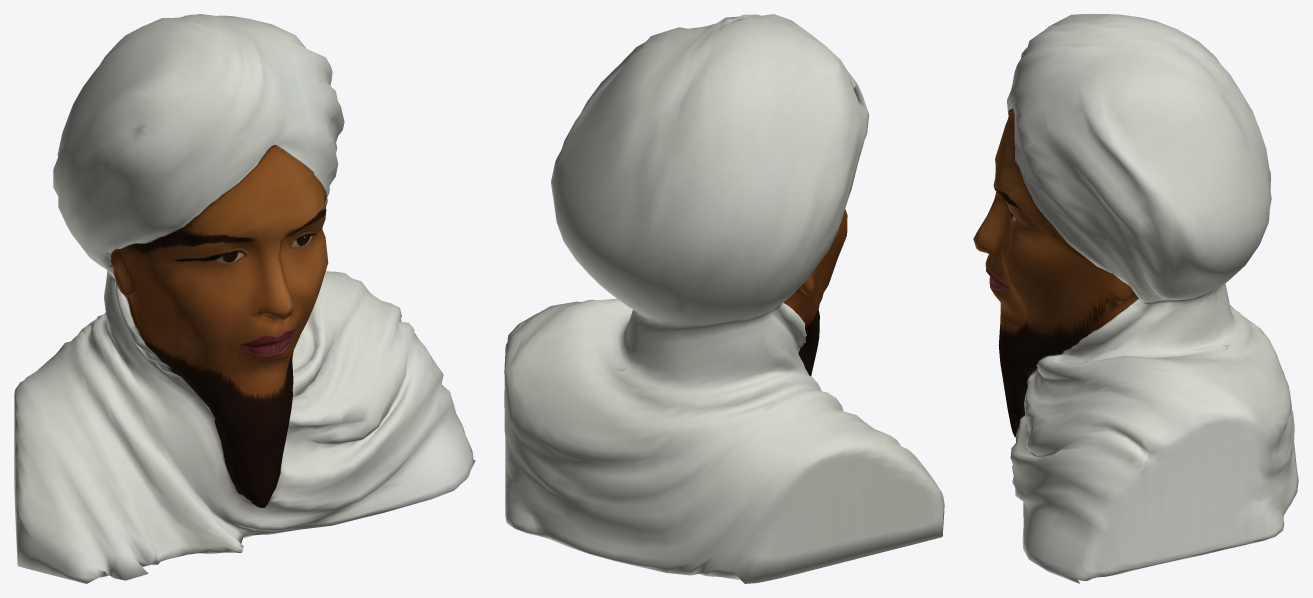
The model's file is imambonjol.glb.
3 renders of one model, left to right at view 1: azimuth 30°, elevation 25°; view 2: azimuth 150°, elevation 25°; view 3: azimuth 270°, elevation 25°, orthographic. The views are drawn at different scales.
Parts seen in each view (by area): view 1: model; view 2: model; view 3: model.
Boxes of the visible parts, x1,y1,x2,y2 form: model: (14, 14, 475, 583); model: (504, 14, 944, 583); model: (973, 14, 1298, 583).
Bounding box in the file's own units: 1.85 × 1.9 × 1.25.
1 material, 1 textured.
